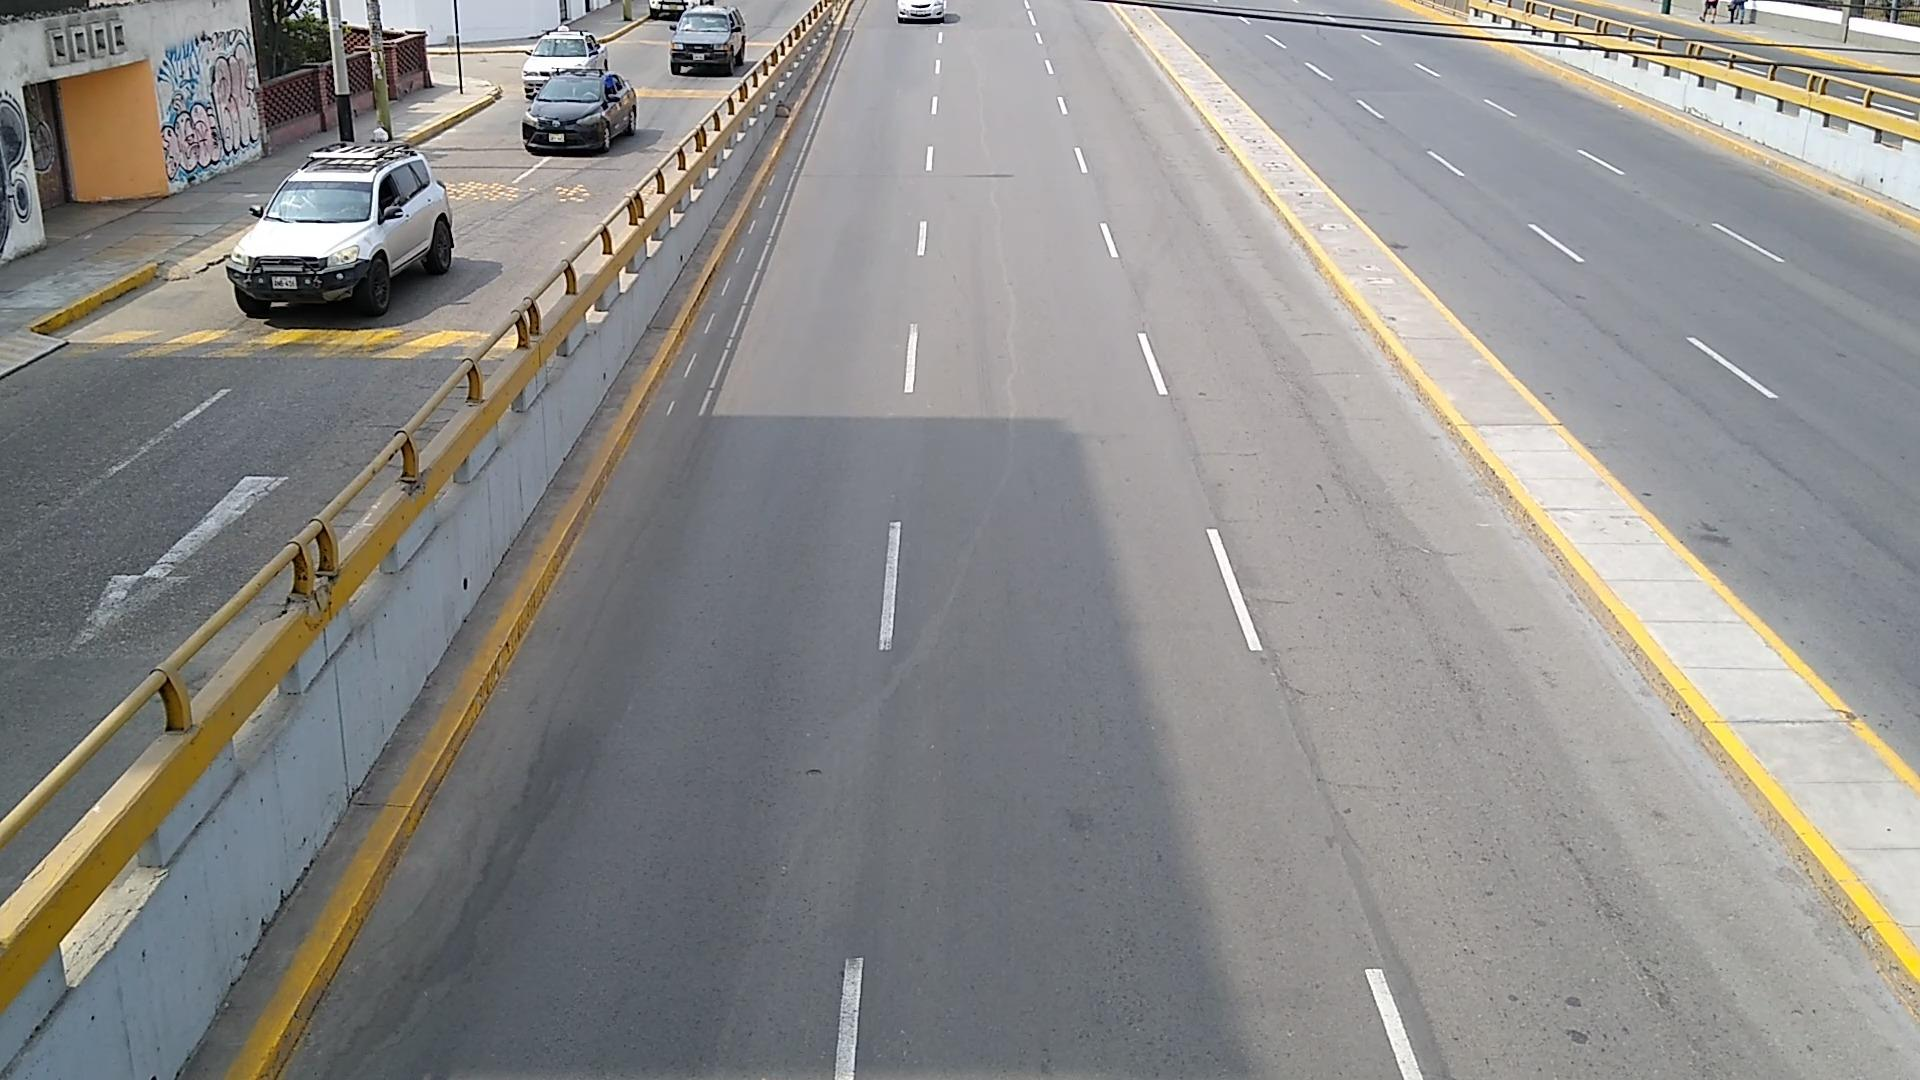car: (225, 139, 458, 319), (521, 68, 638, 150), (521, 26, 608, 98)
